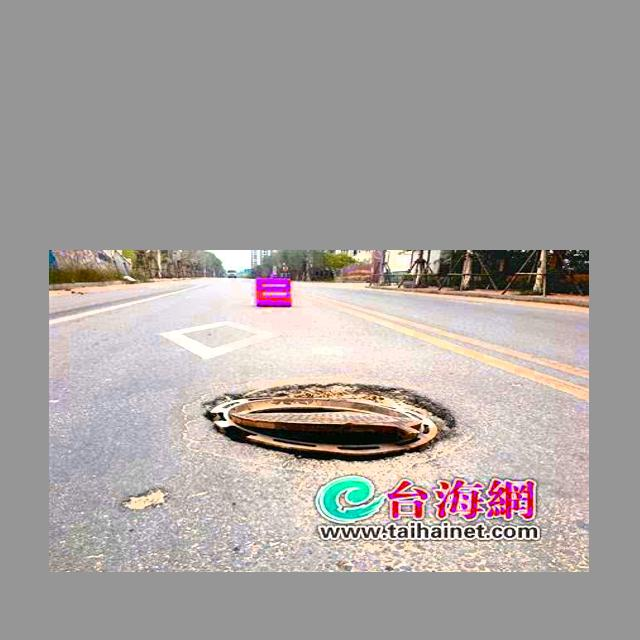circle: (147, 373, 494, 479)
